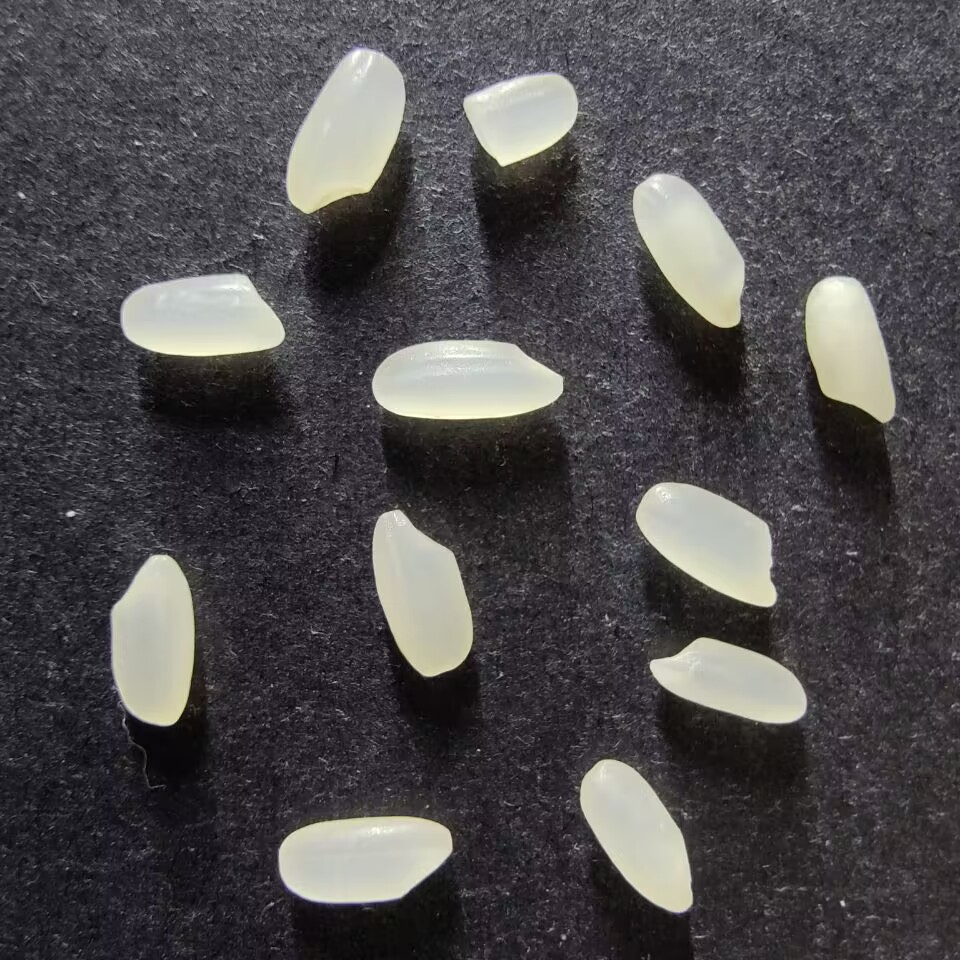broken: (462, 73, 578, 169)
rice: (285, 48, 405, 214), (634, 481, 779, 607), (631, 172, 747, 329), (578, 758, 693, 915), (370, 509, 473, 678), (277, 815, 452, 905), (371, 339, 565, 420), (108, 554, 196, 727), (647, 636, 807, 724), (119, 272, 284, 357), (803, 275, 896, 424)
